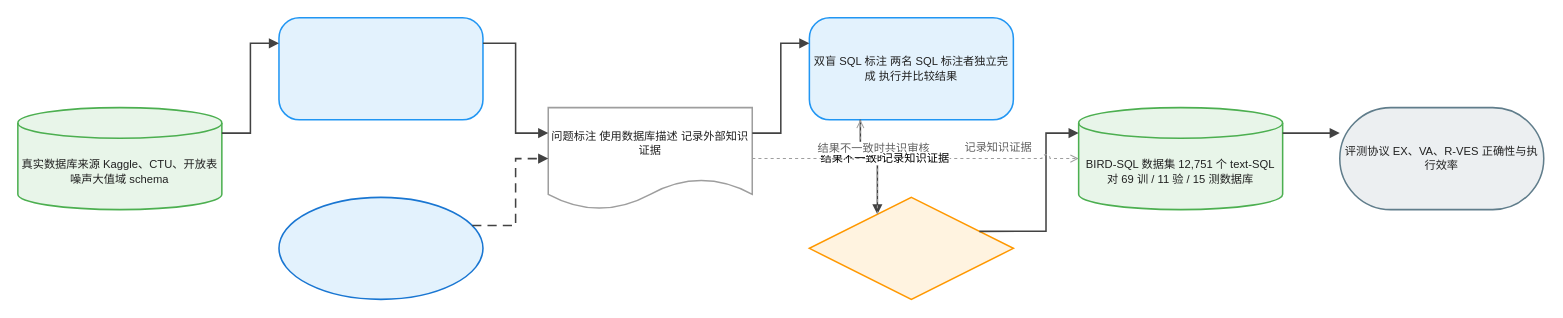
Image size: 1563x318. Some labels were removed from this diagram. Each missing label, with the centre of its shape:
"专家审核 SQL 有效性 文本-知识-SQL 对齐 选择高效标准答案" belongs at point 911,248.
"数据库整理 95 个数据库 / 37 个领域 schema 与值描述文件" belongs at point 380,68.
"标注者准入 专家培训与考试 只保留合格人员" belongs at point 380,248.
